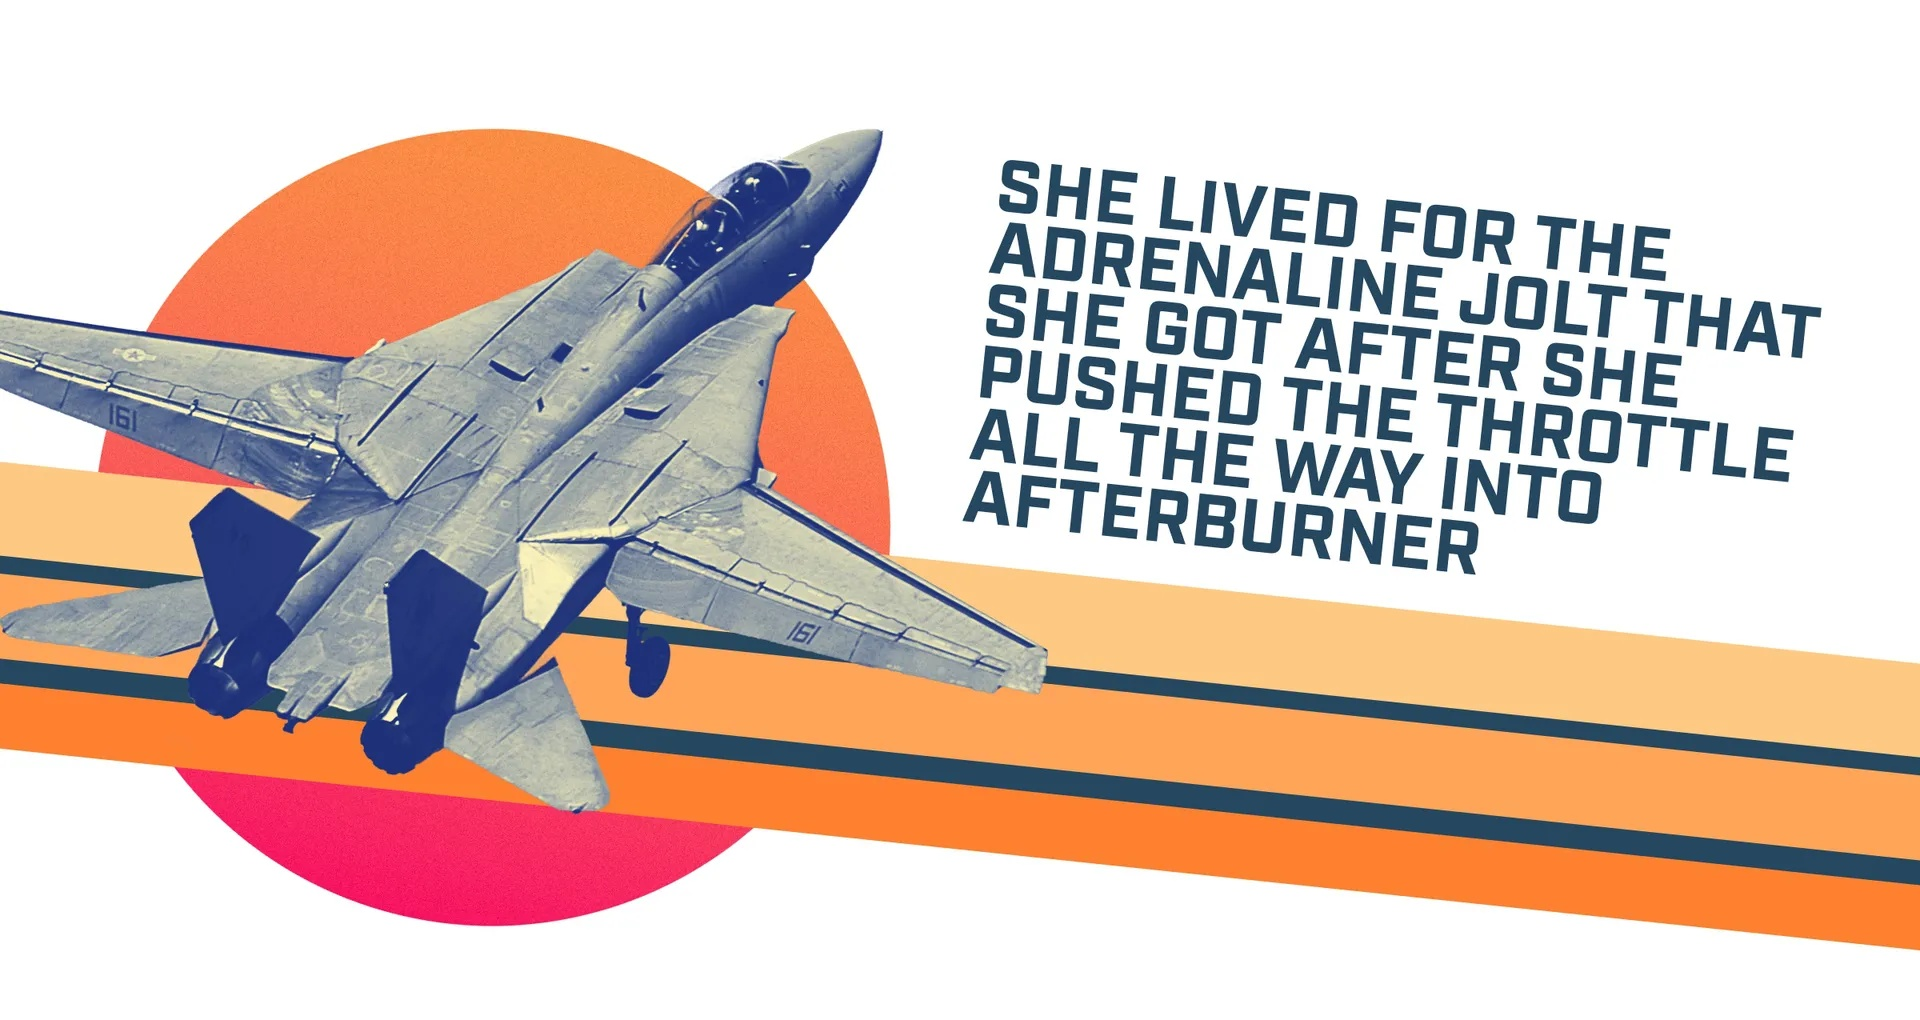F14: (1, 127, 1048, 814)
